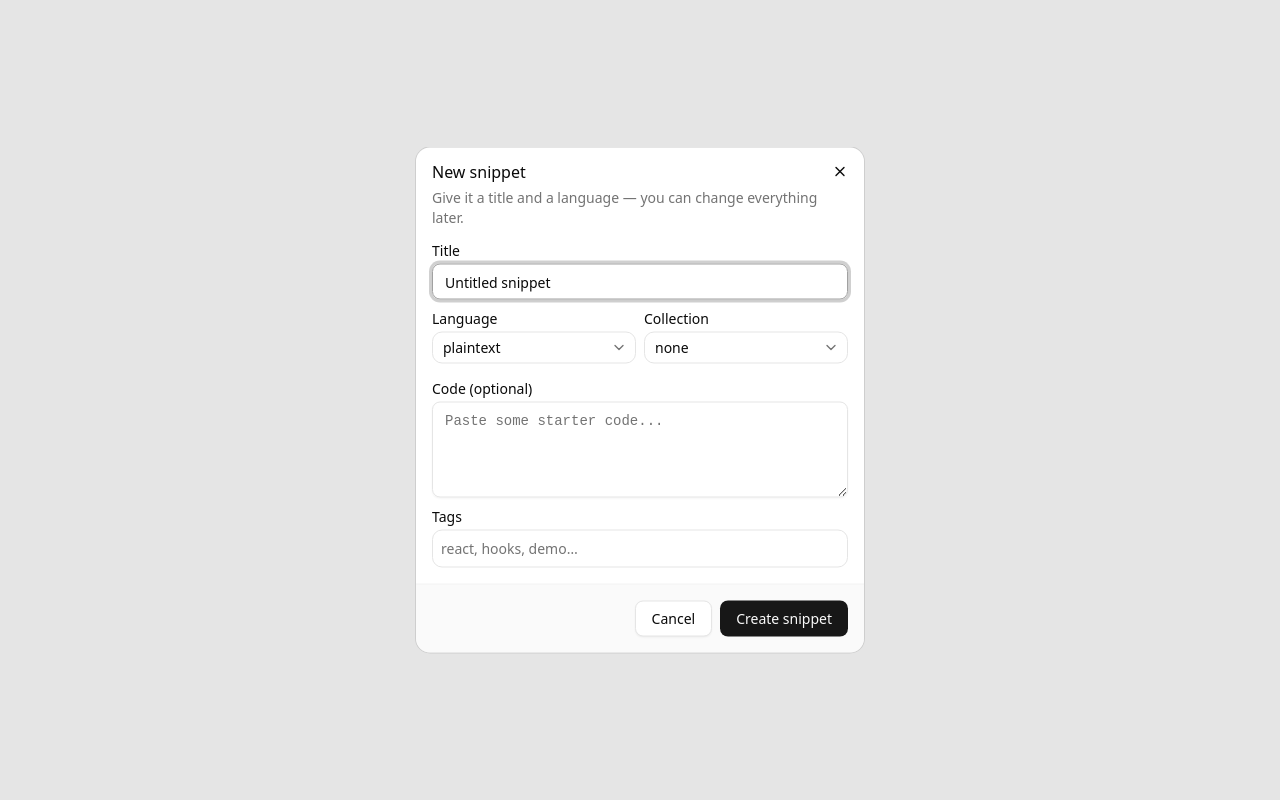
Test: NewSnippetDialog › disables create while the title is blank
Clear the field labelled "Title" at [640, 282], box [432,264,848,300]
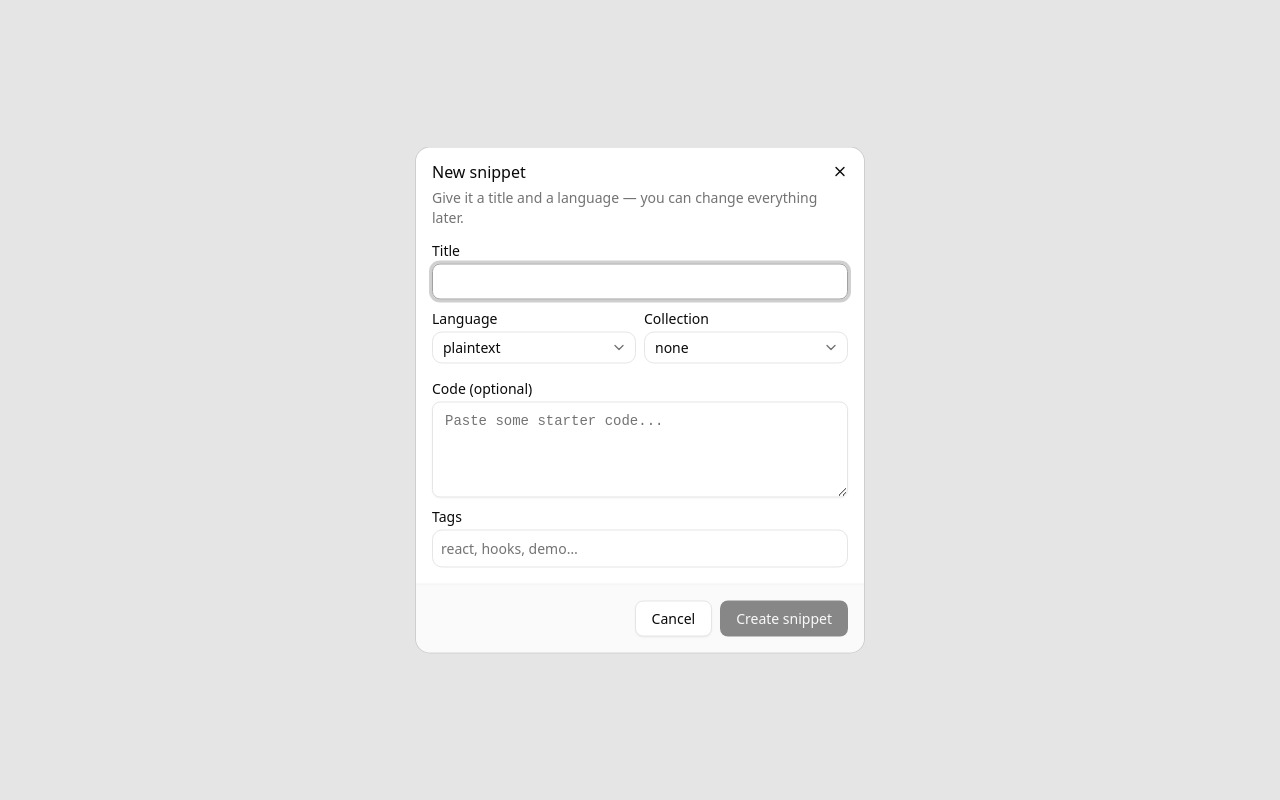
Expected: the button "Create snippet" is disabled, [720,600,848,636]
